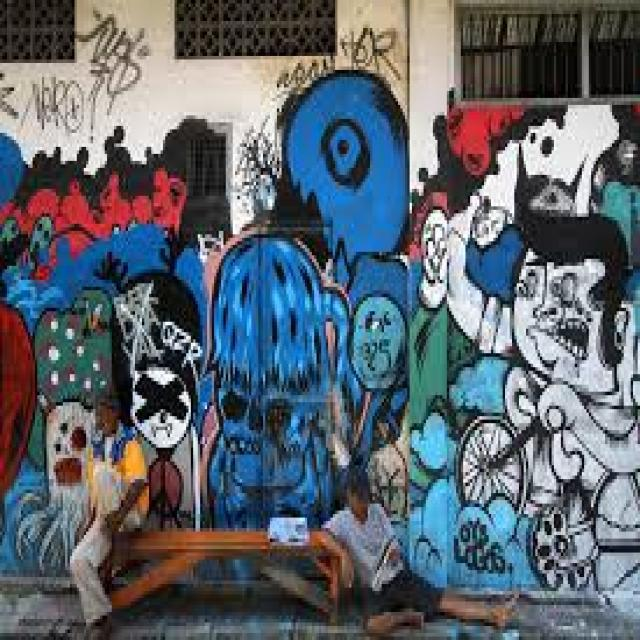-: (0, 69, 640, 591), (79, 6, 152, 136), (274, 19, 404, 92), (33, 72, 86, 132), (0, 72, 20, 126)
